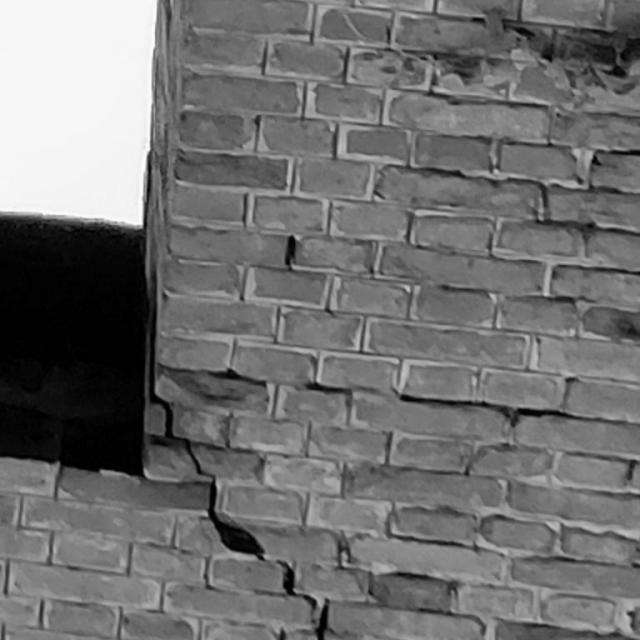crack: (149, 324, 330, 640), (157, 361, 640, 428)
